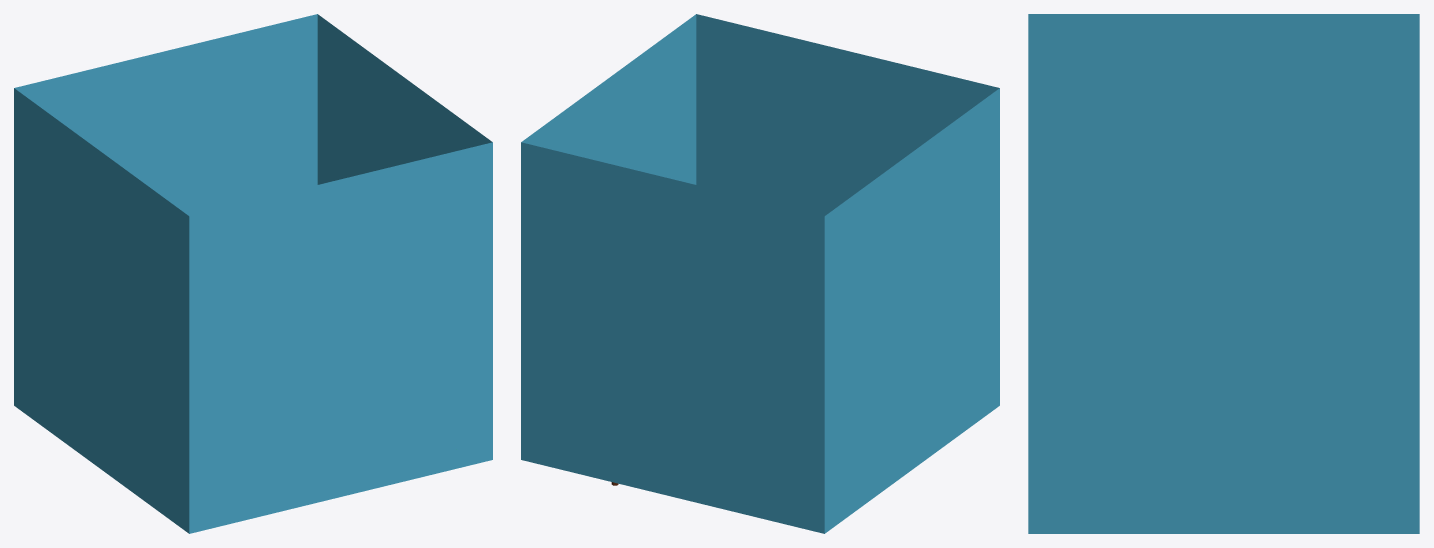
The model's file is nosequerooms.glb.
3 renders of one model, left to right at view 1: azimuth 30°, elevation 25°; view 2: azimuth 150°, elevation 25°; view 3: azimuth 270°, elevation 25°, orthographic. The views are drawn at different scales.
Visible parts, largest first — view 1: Plane.004-col; view 2: Plane.004-col; view 3: Plane.004-col.
Part boxes in pixels (x1=…): Plane.004-col: x1=14, y1=14, x2=492, y2=533; Plane.004-col: x1=521, y1=14, x2=999, y2=533; Plane.004-col: x1=1028, y1=14, x2=1419, y2=533.
Size of the model in its own units: 17.21 by 17.82 by 17.21.
